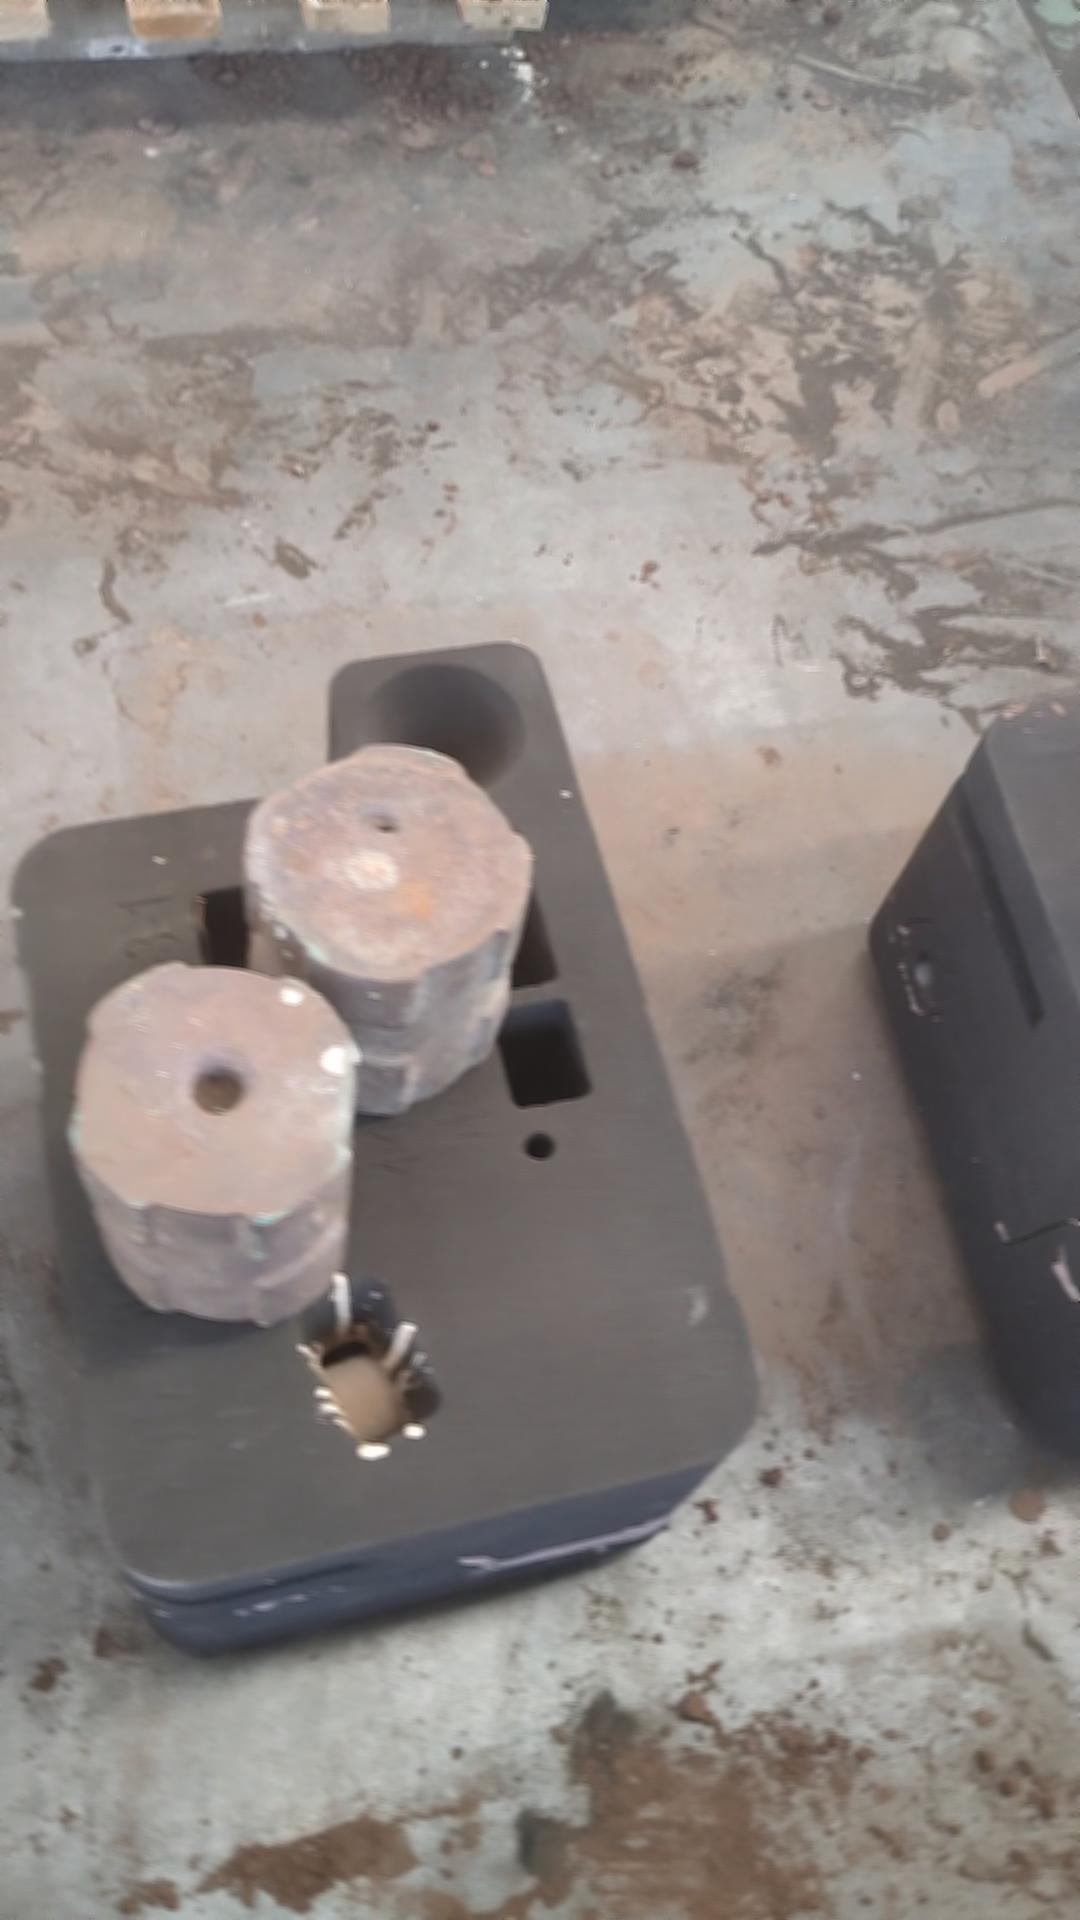pouring hole: (359, 662, 524, 796)
